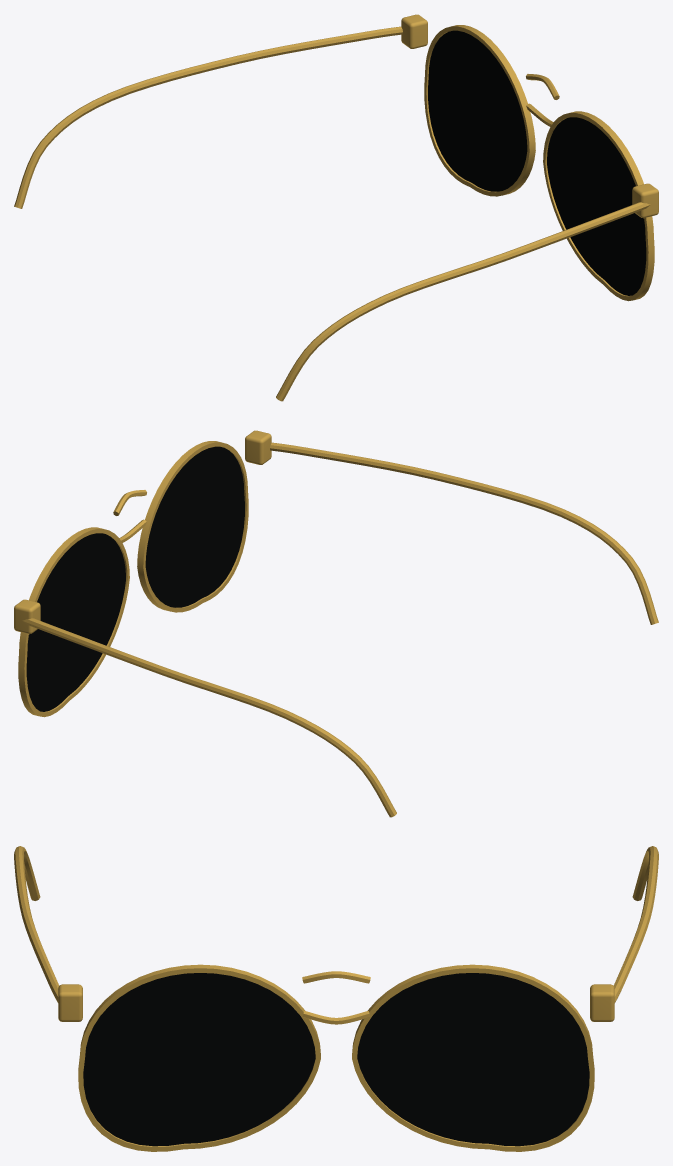
File: SM_Wear_Aviators.glb
3 renders of one model, top to bottom at view 1: azimuth 30°, elevation 25°; view 2: azimuth 150°, elevation 25°; view 3: azimuth 270°, elevation 25°, orthographic. The views are drawn at different scales.
Visible parts, largest first — view 1: SM_Wear_Aviators; view 2: SM_Wear_Aviators; view 3: SM_Wear_Aviators.
Boxes of the visible parts, x1,y1,x2,y2 form: SM_Wear_Aviators: (14,14,658,401); SM_Wear_Aviators: (14,430,658,817); SM_Wear_Aviators: (14,846,658,1151).
Size of the model in its own units: 0.1298 by 0.0492 by 0.1565.
